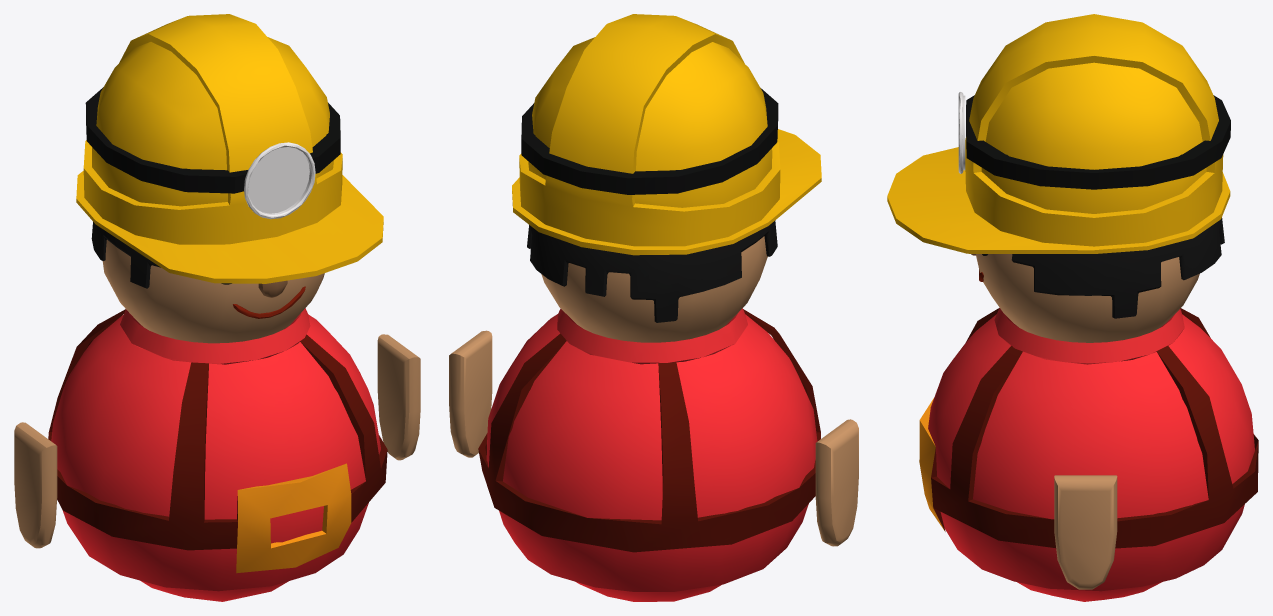
Rendered from NPC 1.fbx.
3 views of the same model, side by side, from view 1: azimuth 30°, elevation 25°; view 2: azimuth 150°, elevation 25°; view 3: azimuth 270°, elevation 25° (orthographic).
Parts seen in each view (by area): view 1: Minerador 4; view 2: Minerador 4; view 3: Minerador 4.
Part boxes in pixels (left/top/right/bottom): Minerador 4: left=14, top=14, right=420, bottom=601; Minerador 4: left=449, top=14, right=858, bottom=601; Minerador 4: left=887, top=14, right=1258, bottom=601.
Bounding box in the file's own units: 459 × 643 × 386.
1 material, 1 textured.
